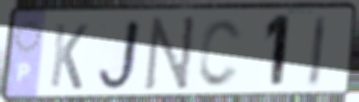1: (261, 12, 292, 94)
C: (195, 17, 245, 91)
I: (305, 14, 330, 91)
J: (94, 16, 144, 95)
K: (47, 21, 90, 92)
N: (141, 14, 199, 95)
